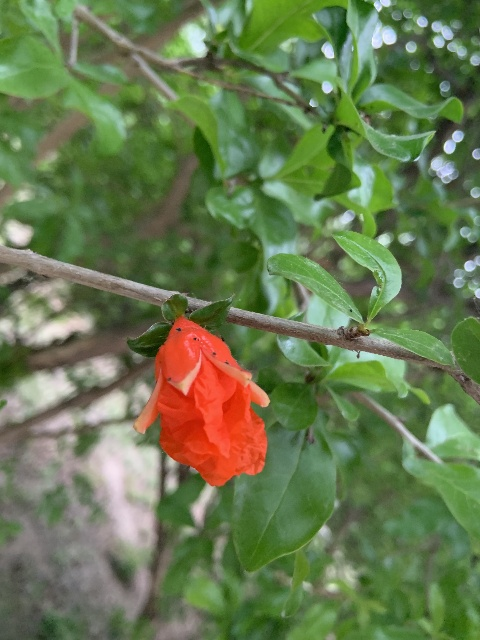flower: (133, 316, 269, 486)
